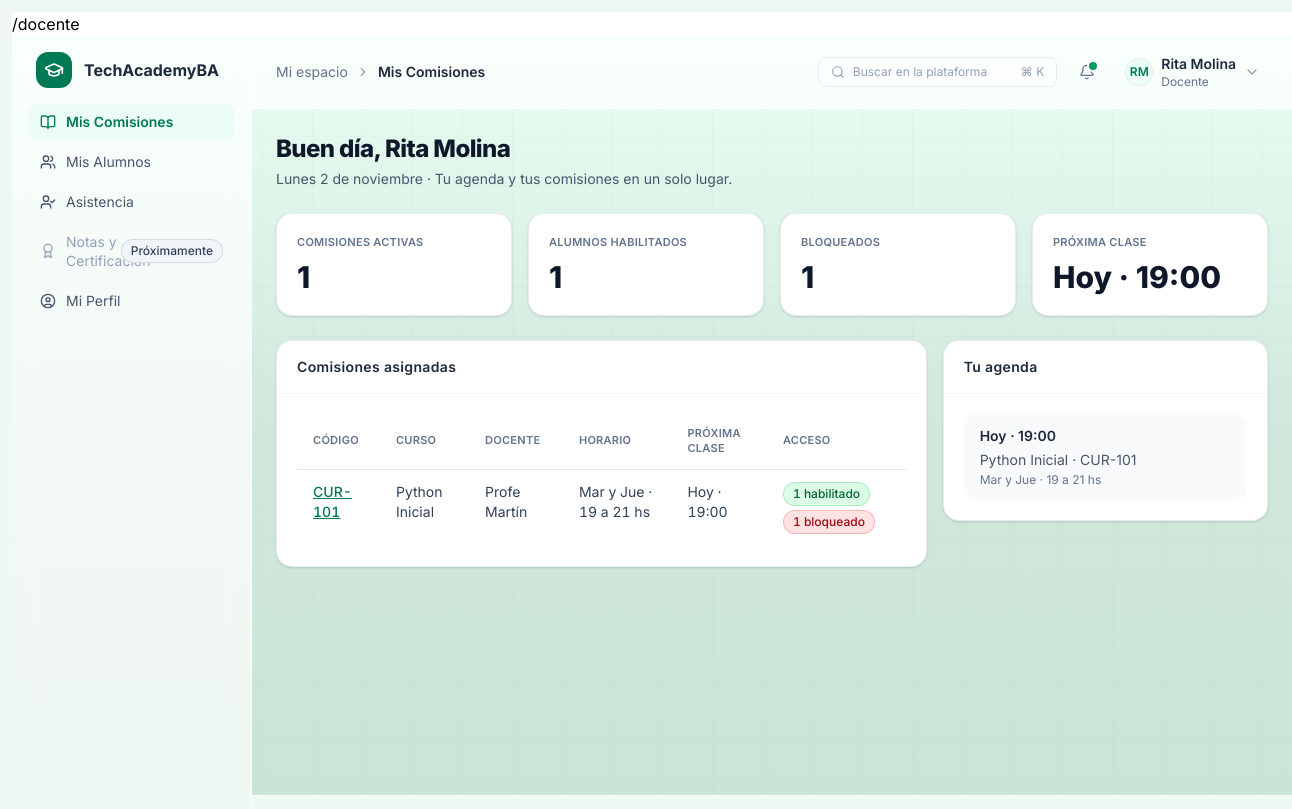
Test: las pantallas de cada shell dibujan con los componentes compartidos › la sección de DOCENTE cierra la sesión con el botón compartido del menú de perfil
The width and height of the screenshot is (1292, 809).
Click the button "RM Rita Molina Docente" at (1193, 72), box 1117,48 -> 1268,96
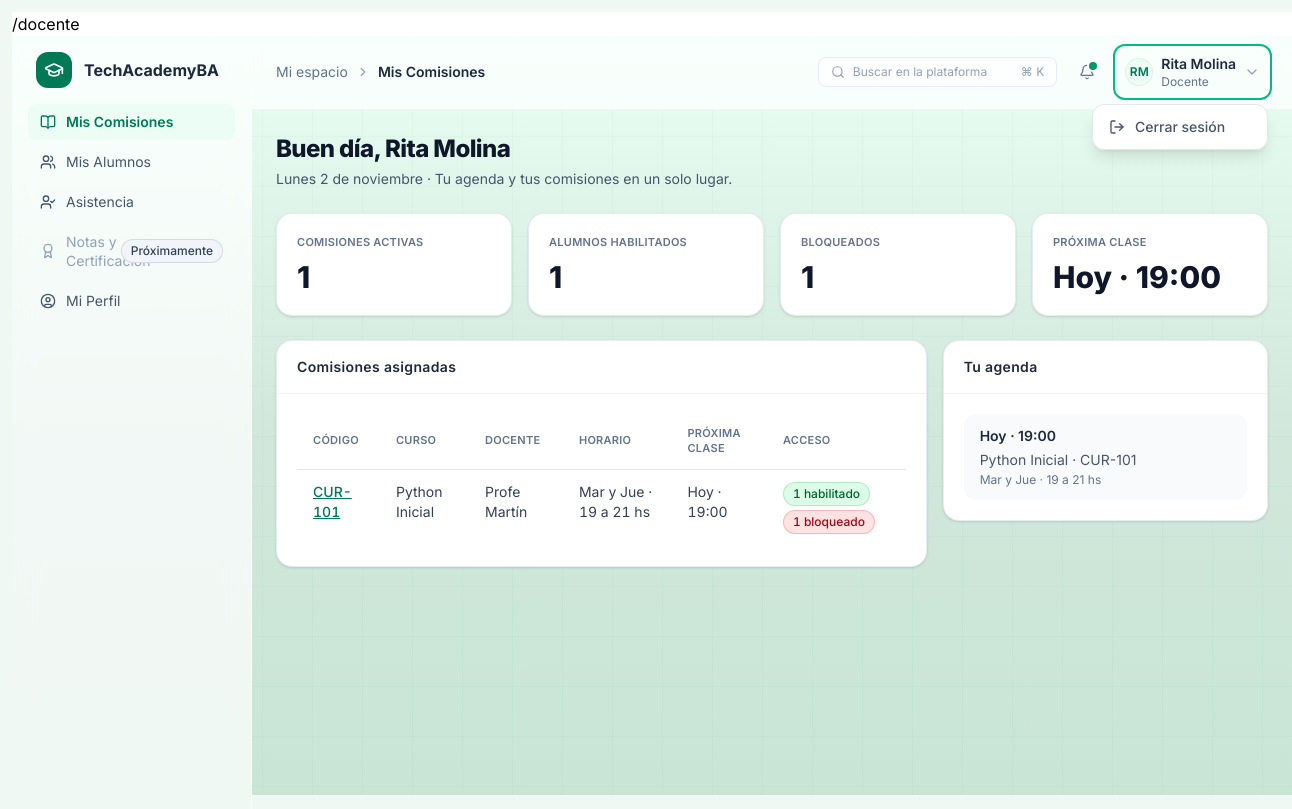
Now the menu item "Cerrar sesión" is shown, box 1093,109 -> 1267,145
